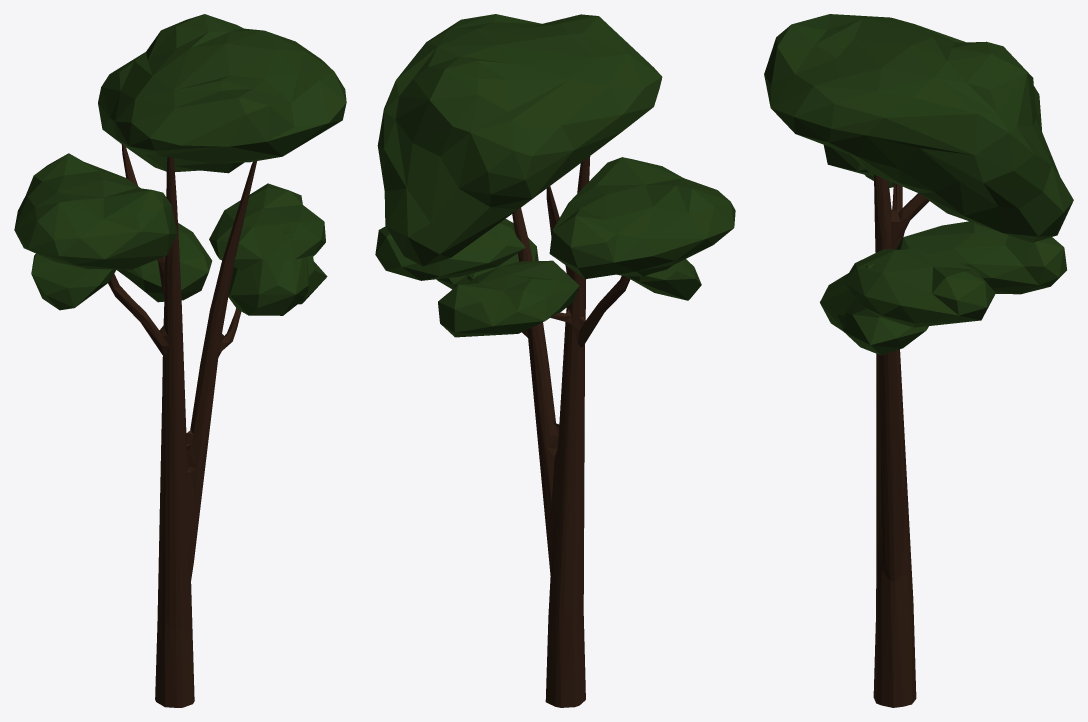
File: SM_tree_jungle_10.fbx
The picture shows the model from 3 angles, left to right: view 1: azimuth 30°, elevation 25°; view 2: azimuth 150°, elevation 25°; view 3: azimuth 270°, elevation 25°; orthographic projection. The views are drawn at different scales.
Parts seen in each view (by area): view 1: Object010; view 2: Object010; view 3: Object010.
Part boxes in pixels (bbox=[...]): Object010: bbox=[14, 14, 346, 707]; Object010: bbox=[375, 14, 735, 707]; Object010: bbox=[764, 14, 1073, 707].
Size of the model in its own units: 328 by 638 by 262.
